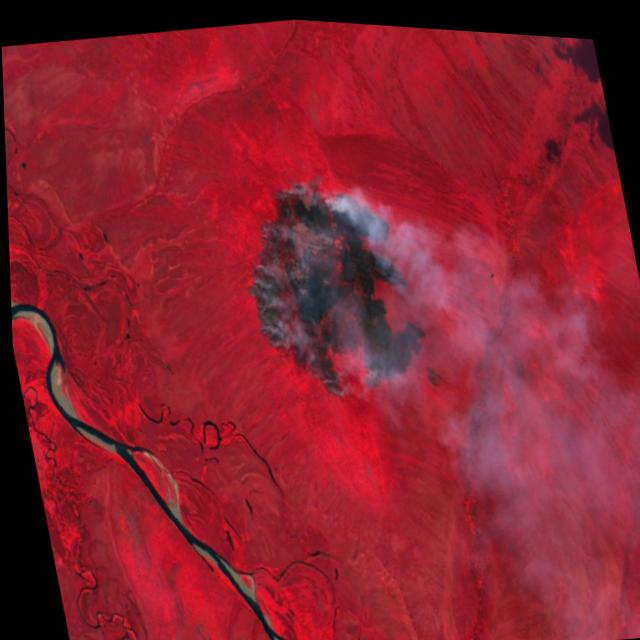fire: (220, 142, 421, 419)
